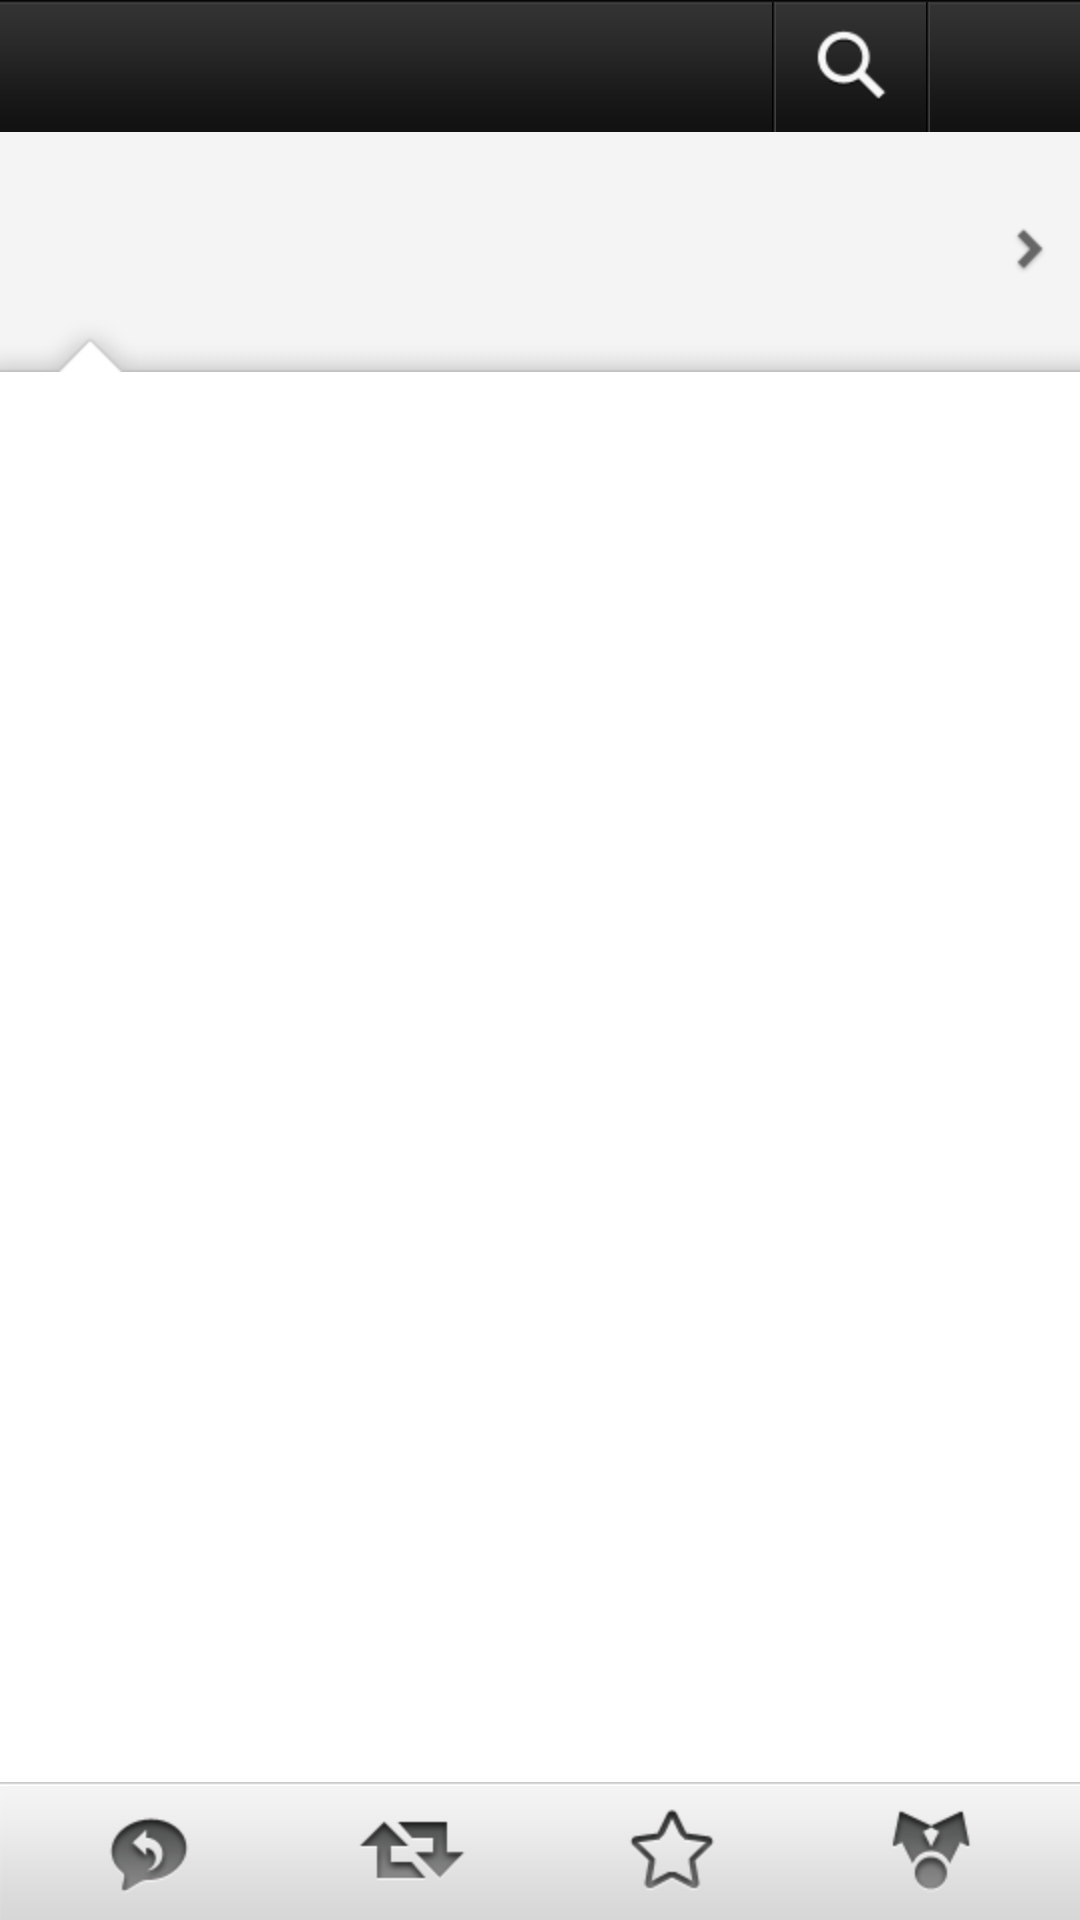

Screen size 1080×1920. Icon name, then its box in pixels as (x1, y1, x2, y2):
chevron: (1017, 229, 1043, 270)
swipe reply: (111, 1818, 187, 1891)
swipe retweet: (360, 1821, 464, 1878)
